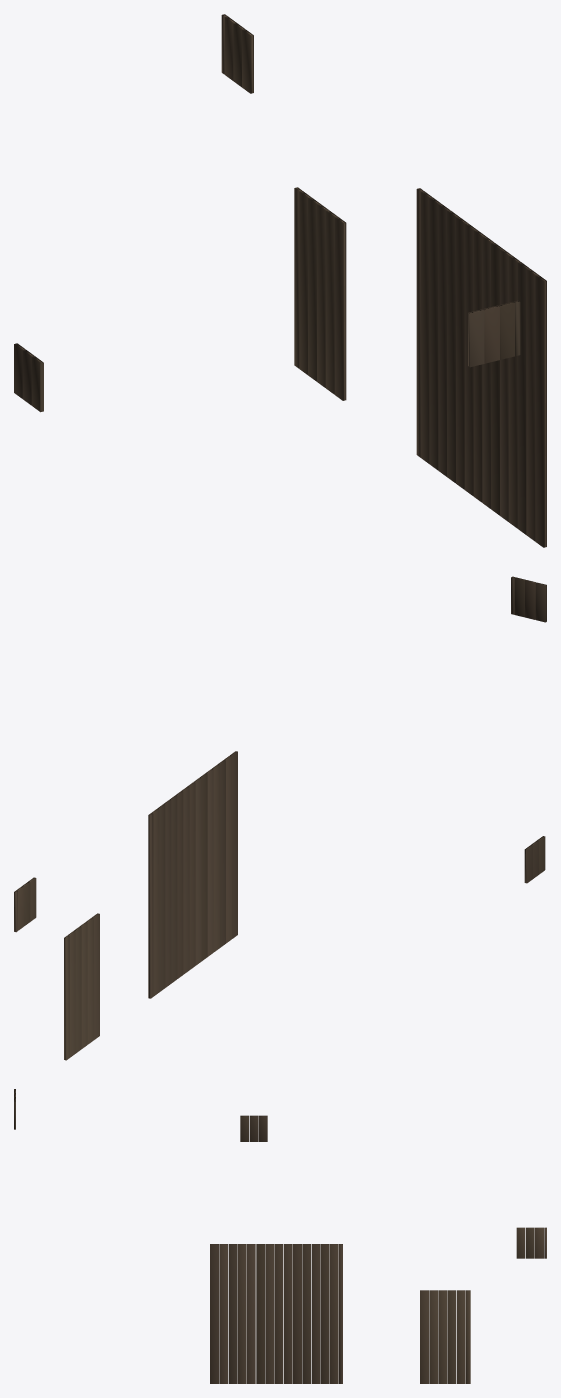
File: SM_BarnWood_12.glb
3 renders of one model, top to bottom at view 1: azimuth 30°, elevation 25°; view 2: azimuth 150°, elevation 25°; view 3: azimuth 270°, elevation 25°, orthographic. The views are drawn at different scales.
Parts seen in each view (by area): view 1: SM_BarnWood_12; view 2: SM_BarnWood_12; view 3: SM_BarnWood_12.
Part boxes in pixels (x1,y1,x2,y2): SM_BarnWood_12: (14, 14, 546, 547); SM_BarnWood_12: (14, 576, 546, 1060); SM_BarnWood_12: (14, 1089, 546, 1383).
Bounding box in the file's own units: 5.64 × 4.9 × 10.41.
